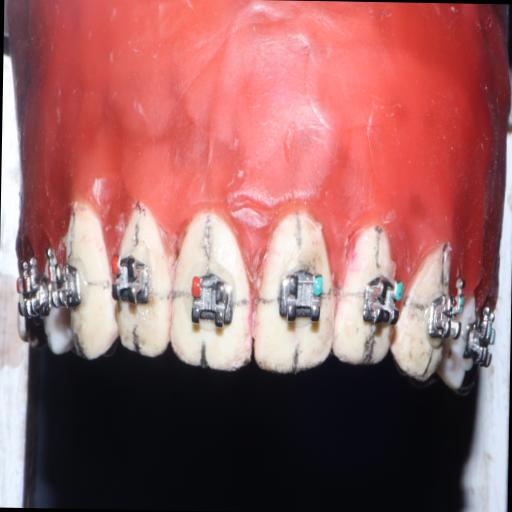correct_brace: (275, 262, 327, 332)
incorrect_brace: (187, 266, 236, 332)
